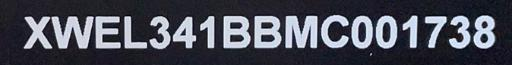letter: (50, 14, 94, 51), (282, 13, 320, 52), (220, 11, 252, 52), (20, 14, 54, 49), (252, 13, 282, 52), (320, 13, 350, 50), (94, 14, 122, 51), (122, 14, 150, 51), (420, 14, 448, 49), (171, 14, 197, 51), (146, 14, 172, 51), (348, 14, 374, 51), (447, 13, 471, 50), (374, 13, 398, 50), (472, 14, 496, 51), (197, 13, 217, 50), (400, 13, 420, 50)
